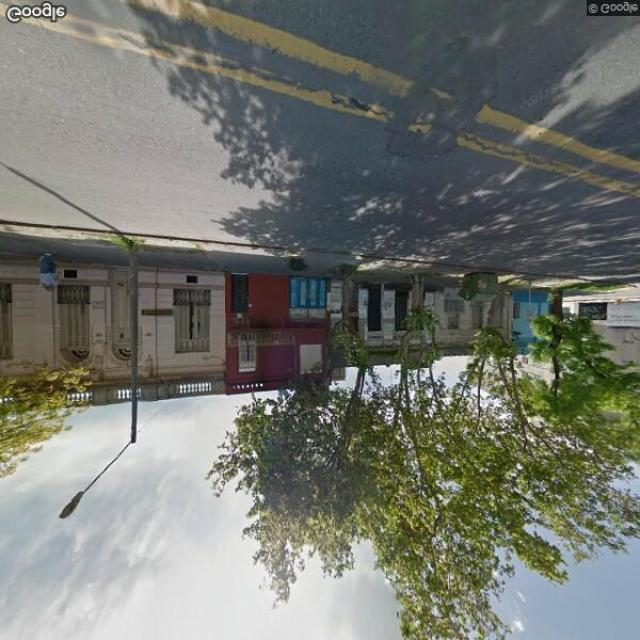garbage container: (455, 265, 505, 310)
